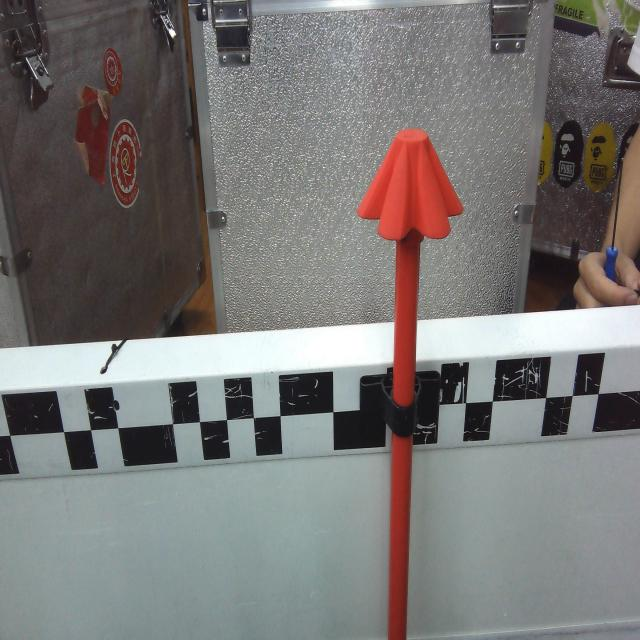zred-Stake-Head: (357, 127, 464, 240)
